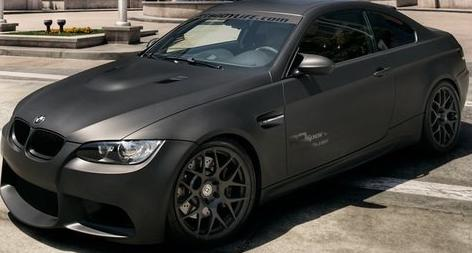front_view: (2, 105, 174, 244)
headlight: (73, 135, 165, 173)
side_glass: (287, 4, 422, 75)
